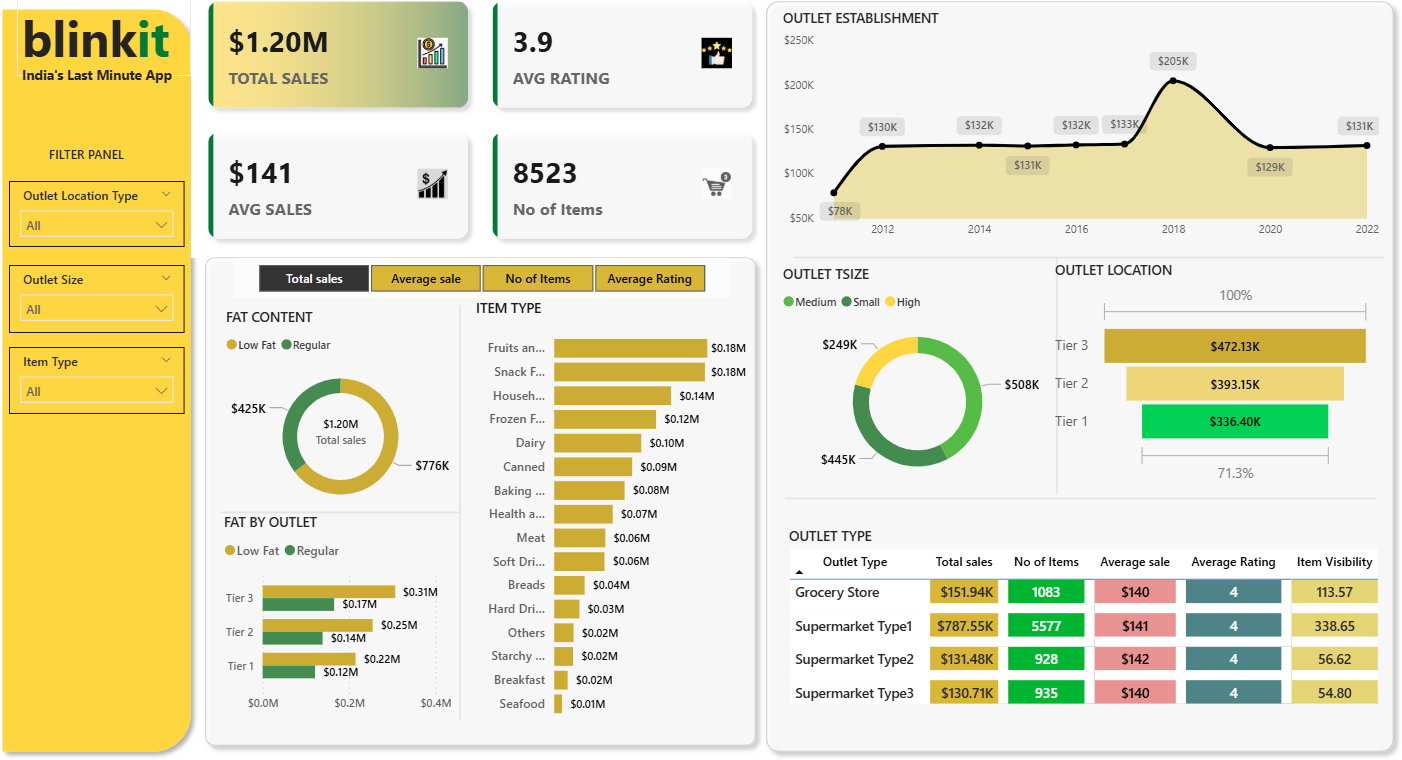

The dashboard page shown, as its layout file describes it:
{"tool":"powerbi","page":{"name":"Page 1","canvas":[1400,800],"ordinal":0},"visuals":[{"type":"shape","box":[0,33.5,203.9,749.8],"z":0},{"type":"textbox","box":[23.6,32.5,171.4,75.9],"z":1000},{"type":"textbox","box":[23.6,93.6,165.5,28.6],"z":2000},{"type":"cardVisual","fields":{"Data":["BlinkIT Grocery Data.Total sales","BlinkIT Grocery Data.Average Rating","BlinkIT Grocery Data.Average sale","BlinkIT Grocery Data.No of Items"]},"box":[195.1,17.7,570.4,270],"z":3000},{"type":"shape","box":[200,277.8,560.6,499.5],"z":4000},{"type":"donutChart","title":"FAT CONTENT","fields":{"Y":["BlinkIT Grocery Data.Total sales"],"Category":["BlinkIT Grocery Data.Item Fat Content"]},"box":[224.6,336.9,235.5,208.9],"z":5000},{"type":"slicer","fields":{"Values":["Matrics.Matrics"]},"box":[236.5,287.7,488.7,40.4],"z":6000},{"type":"cardVisual","fields":{"Data":["BlinkIT Grocery Data.Total sales"]},"box":[285.7,423.6,114.3,70],"z":7000},{"type":"clusteredBarChart","title":"FAT BY OUTLET","fields":{"Y":["BlinkIT Grocery Data.Total sales"],"Category":["BlinkIT Grocery Data.Outlet Location Type"],"Series":["BlinkIT Grocery Data.Item Fat Content"]},"box":[223,539.1,236.6,205.5],"z":8000},{"type":"shape","box":[224.6,523.2,235.5,30.5],"z":9000},{"type":"barChart","title":"ITEM TYPE","fields":{"Y":["BlinkIT Grocery Data.Total sales"],"Category":["BlinkIT Grocery Data.Item Type"]},"box":[470.9,328.1,275.9,422.7],"z":10000},{"type":"shape","box":[388.2,334,143.8,408.9],"z":11000},{"type":"shape","box":[752.7,25.6,636.5,757.6],"z":12000},{"type":"lineChart","title":"OUTLET ESTABLISHMENT ","fields":{"Category":["BlinkIT Grocery Data.Outlet Establishment Year"],"Y":["BlinkIT Grocery Data.Total sales"]},"box":[773.7,42.7,597.2,234.6],"z":13000},{"type":"shape","box":[789.2,257.9,581.7,58.2],"z":14000},{"type":"donutChart","title":"OUTLET TSIZE","fields":{"Y":["BlinkIT Grocery Data.Total sales"],"Category":["BlinkIT Grocery Data.Outlet Size"]},"box":[773.7,294.7,275,225],"z":15000},{"type":"shape","box":[975.3,287,145.4,232.7],"z":16000},{"type":"funnel","title":"OUTLET LOCATION","fields":{"Y":["BlinkIT Grocery Data.Total sales"],"Category":["BlinkIT Grocery Data.Outlet Location Type"]},"box":[1041.4,290.6,321.2,224.6],"z":17000},{"type":"shape","box":[780.3,495.6,582.3,58.1],"z":18000},{"type":"tableEx","title":"OUTLET TYPE","fields":{"Values":["BlinkIT Grocery Data.Outlet Type","BlinkIT Grocery Data.Total sales","BlinkIT Grocery Data.No of Items","BlinkIT Grocery Data.Average sale","BlinkIT Grocery Data.Average Rating","Sum(BlinkIT Grocery Data.Item Visibility)"]},"box":[779.5,552.6,591.4,205.5],"z":19000},{"type":"slicer","fields":{"Values":["BlinkIT Grocery Data.Outlet Location Type"]},"box":[15.8,211.8,173.4,65],"z":20000},{"type":"slicer","fields":{"Values":["BlinkIT Grocery Data.Outlet Size"]},"box":[15.8,294.6,173.4,67],"z":21000},{"type":"slicer","fields":{"Values":["BlinkIT Grocery Data.Item Type"]},"box":[15.8,375.4,173.4,66],"z":22000},{"type":"textbox","box":[50.2,171.4,104.4,31.5],"z":23000}]}

Visuals, with their boxes on the page's 1400x800 design canvas (x1, y1, x2, y2). These are canvas units, not pixel positions in the 1402x760 screenshot, which may show the page scaled, cropped or inside an application window:
shape: box(0, 34, 204, 783)
textbox: box(24, 32, 195, 108)
textbox: box(24, 94, 189, 122)
cardVisual - BlinkIT Grocery Data.Total sales x BlinkIT Grocery Data.Average Rating: box(195, 18, 766, 288)
shape: box(200, 278, 761, 777)
"FAT CONTENT" donutChart: box(225, 337, 460, 546)
slicer - Matrics.Matrics: box(236, 288, 725, 328)
cardVisual - BlinkIT Grocery Data.Total sales: box(286, 424, 400, 494)
"FAT BY OUTLET" clusteredBarChart: box(223, 539, 460, 745)
shape: box(225, 523, 460, 554)
"ITEM TYPE" barChart: box(471, 328, 747, 751)
shape: box(388, 334, 532, 743)
shape: box(753, 26, 1389, 783)
"OUTLET ESTABLISHMENT " lineChart: box(774, 43, 1371, 277)
shape: box(789, 258, 1371, 316)
"OUTLET TSIZE" donutChart: box(774, 295, 1049, 520)
shape: box(975, 287, 1121, 520)
"OUTLET LOCATION" funnel: box(1041, 291, 1363, 515)
shape: box(780, 496, 1363, 554)
"OUTLET TYPE" tableEx: box(780, 553, 1371, 758)
slicer - BlinkIT Grocery Data.Outlet Location Type: box(16, 212, 189, 277)
slicer - BlinkIT Grocery Data.Outlet Size: box(16, 295, 189, 362)
slicer - BlinkIT Grocery Data.Item Type: box(16, 375, 189, 441)
textbox: box(50, 171, 155, 203)
